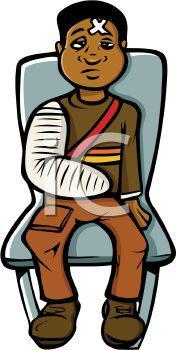chair: (6, 47, 170, 341)
person: (11, 1, 156, 348)
